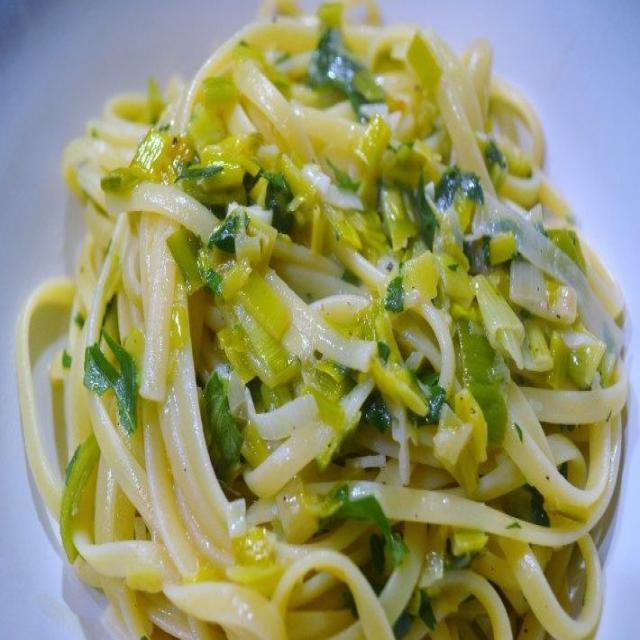Oil pasta: (67, 27, 607, 609)
